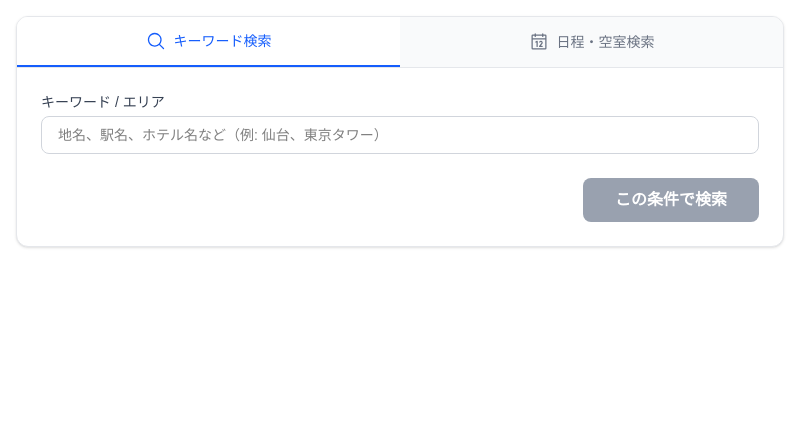
SearchForm コンポーネント › 【TC-SF-02】「日程・空室検索」タブ切り替え時に該当フォームが表示されること
The image size is (801, 428).
Note: 空室検索タブをクリック
Click the button with test id "tab-vacant". click: (592, 42)
box: [400, 17, 783, 67]
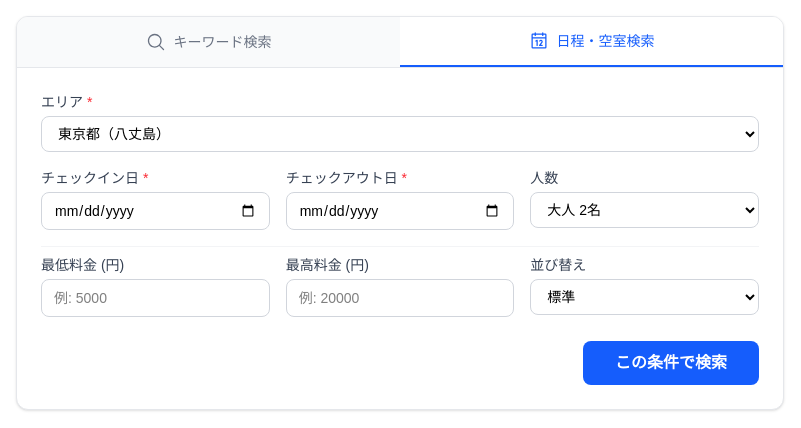
Now the dropdown with test id "area-select" is shown, box [41, 116, 759, 152]
Now the date field with test id "checkin-input" is shown, box [41, 192, 270, 230]
Now the date field with test id "checkout-input" is shown, box [286, 192, 514, 230]
